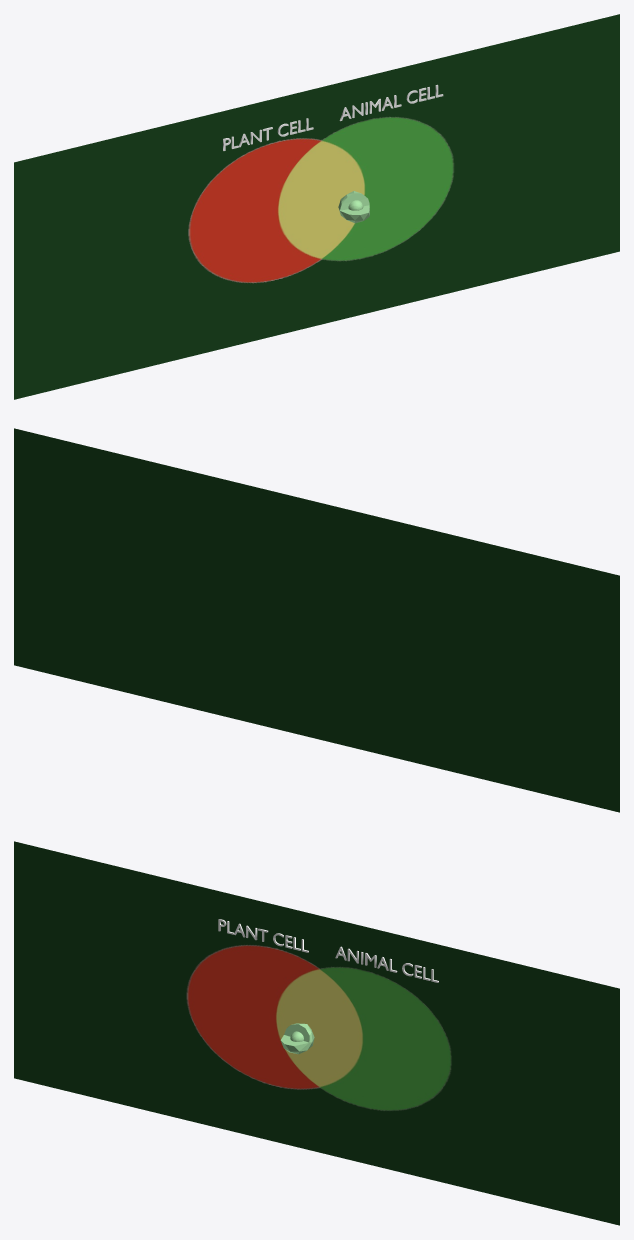
File: nucleus.gltf
3 views of the same model, one above another, from view 1: azimuth 30°, elevation 25°; view 2: azimuth 150°, elevation 25°; view 3: azimuth 330°, elevation 25° (orthographic).
Visible parts, largest first — view 1: Plane.039, Plane.013, Icosphere.003, Text.009, Text.008; view 2: Plane.013; view 3: Plane.039, Plane.013, Icosphere.003, Text.009, Text.008.
Boxes of the visible parts, x1,y1,x2,y2 form: Plane.039: (120, 41, 523, 370); Plane.013: (14, 14, 619, 399); Icosphere.003: (338, 191, 369, 223); Text.009: (339, 84, 443, 121); Text.008: (223, 118, 313, 150); Plane.013: (14, 428, 619, 812); Plane.039: (118, 869, 521, 1198); Plane.013: (14, 841, 619, 1225); Icosphere.003: (280, 1023, 314, 1054); Text.009: (335, 946, 438, 982); Text.008: (218, 919, 308, 952).
Bounding box in the file's own units: 15.94 × 5.96 × 1.72.
Materials: 5 (1 with a texture image).
